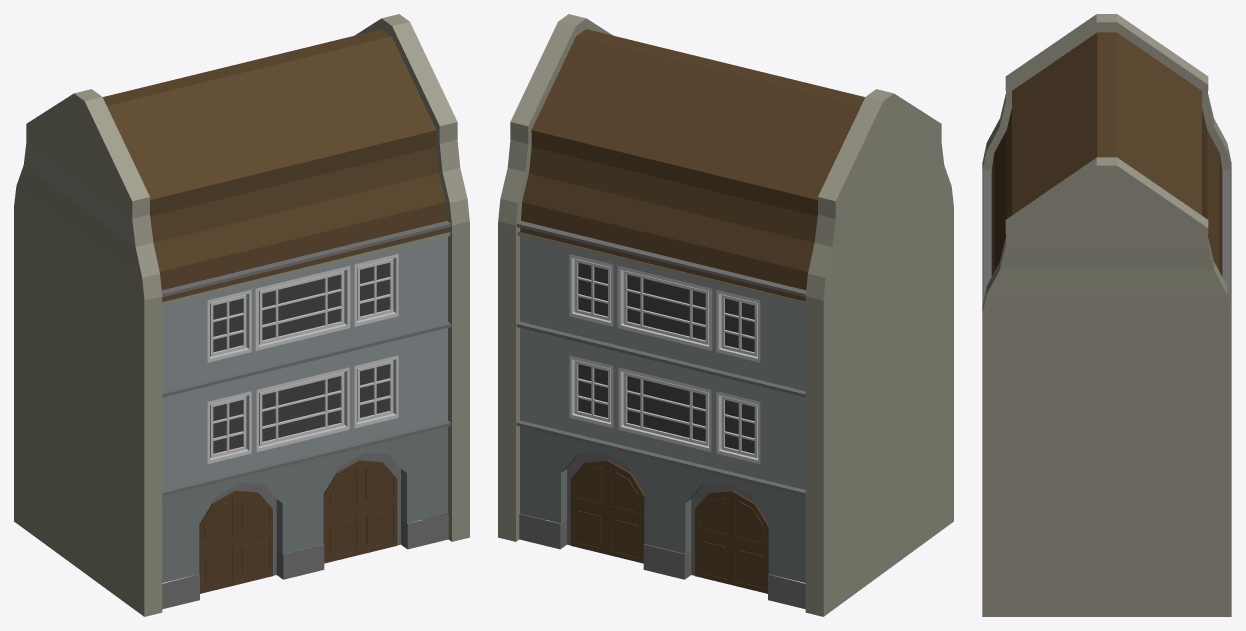
File: terrace.glb
3 renders of one model, left to right at view 1: azimuth 30°, elevation 25°; view 2: azimuth 150°, elevation 25°; view 3: azimuth 270°, elevation 25°, orthographic. The views are drawn at different scales.
Parts seen in each view (by area): view 1: Building2_Small; view 2: Building2_Small; view 3: Building2_Small.
Part boxes in pixels (bbox=[...]): Building2_Small: bbox=[14, 14, 469, 616]; Building2_Small: bbox=[498, 14, 953, 616]; Building2_Small: bbox=[982, 14, 1231, 616].
Size of the model in its own units: 3.58 by 4.97 by 2.49.
